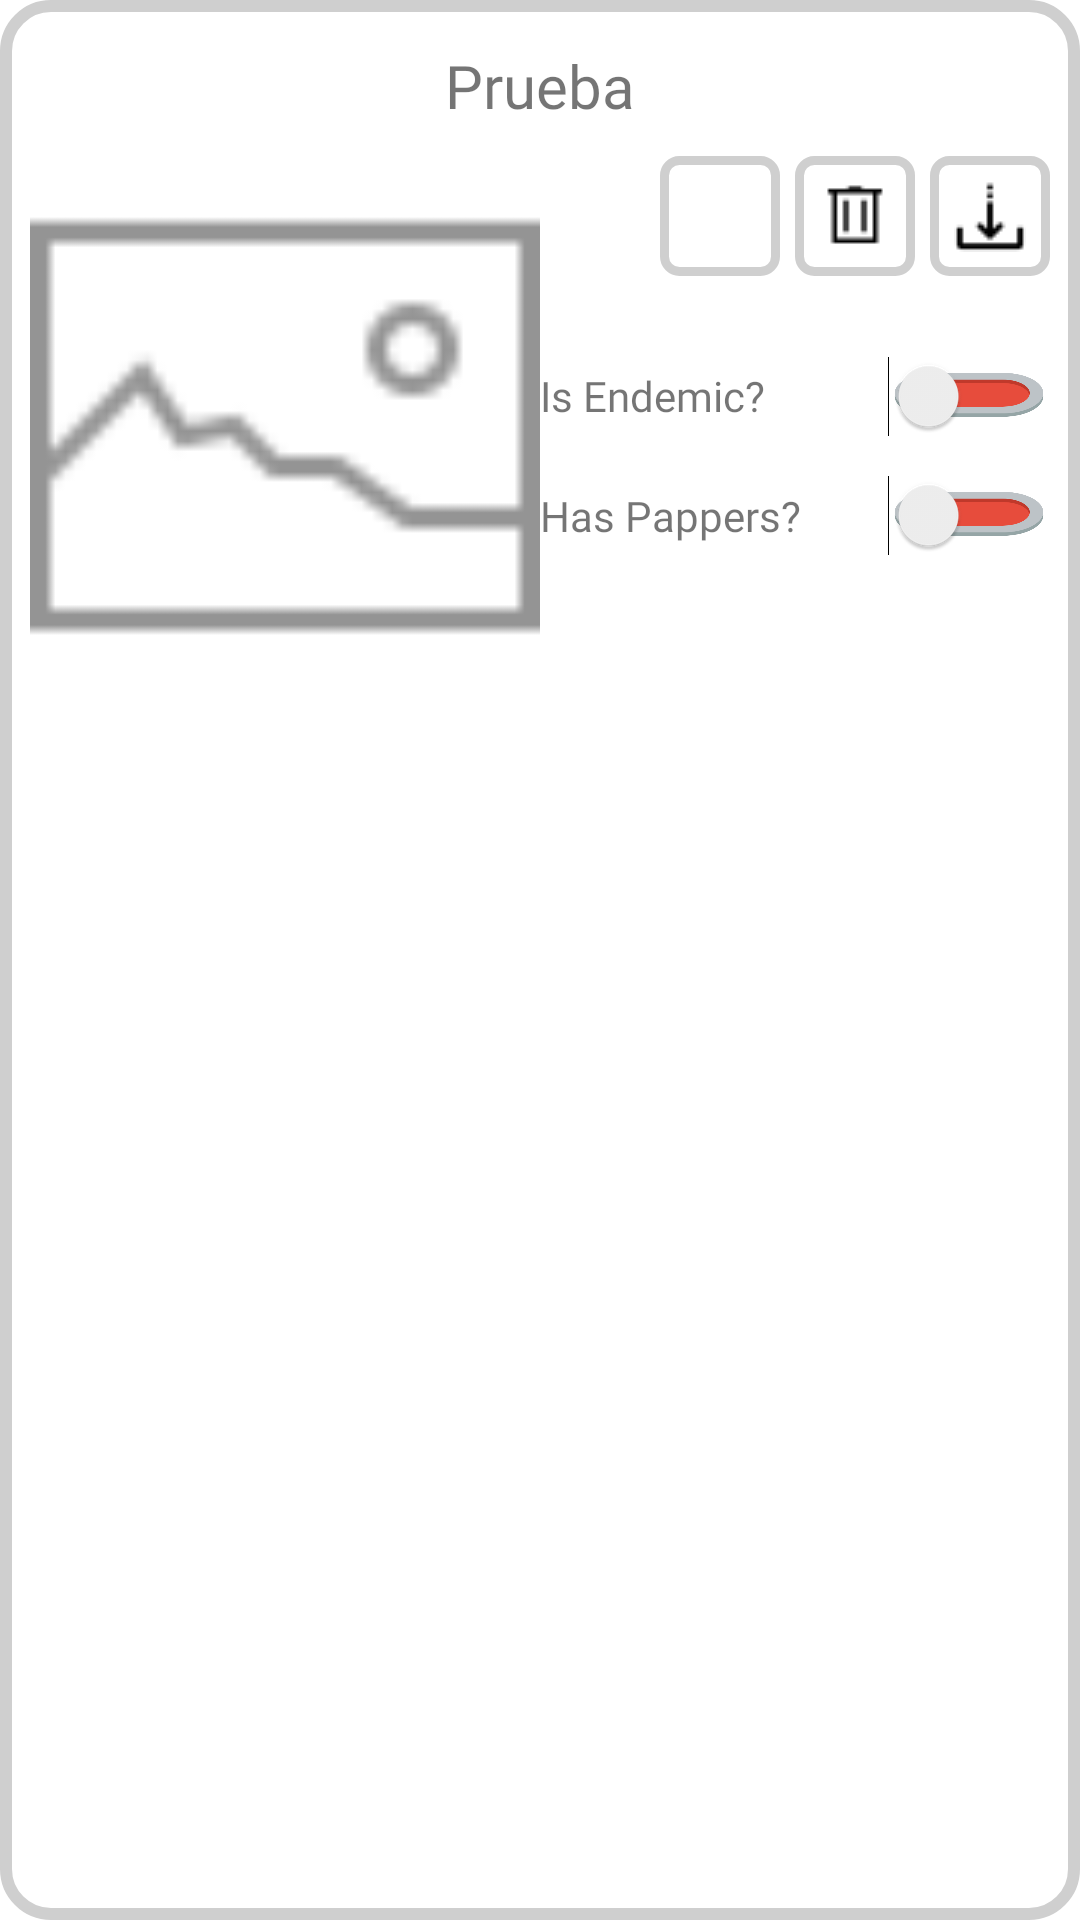

Icons on this 1080px×1920px Android screen, each with the point to tap as [x,y]:
Delete Button: [855,216]
Download Button: [990,216]
